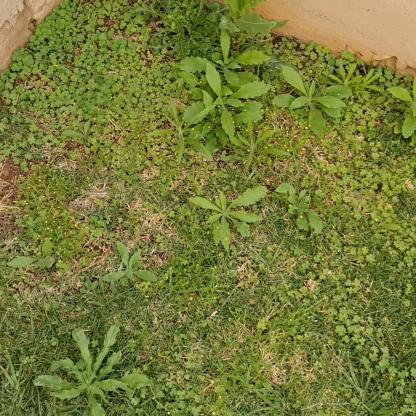Weeds: (33, 320, 152, 415), (177, 60, 272, 153), (273, 64, 348, 139), (185, 183, 268, 248), (173, 30, 269, 85), (133, 0, 224, 56), (149, 100, 216, 169), (228, 117, 292, 174), (103, 240, 157, 291), (277, 180, 324, 237), (219, 0, 287, 37), (387, 79, 415, 144), (8, 238, 55, 274), (327, 61, 363, 90), (64, 122, 102, 147), (358, 64, 383, 94)
